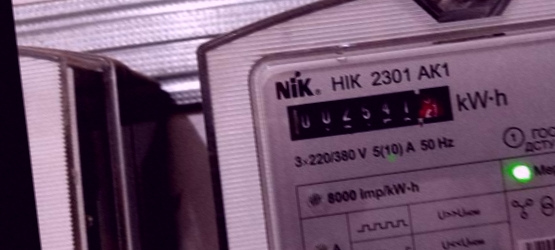0: (298, 105, 313, 127), (318, 101, 333, 123)
1: (399, 89, 412, 113)
2: (338, 97, 355, 120)
4: (379, 91, 392, 114)
5: (358, 95, 374, 119)
6: (422, 102, 435, 116)
screen: (273, 71, 467, 147)
